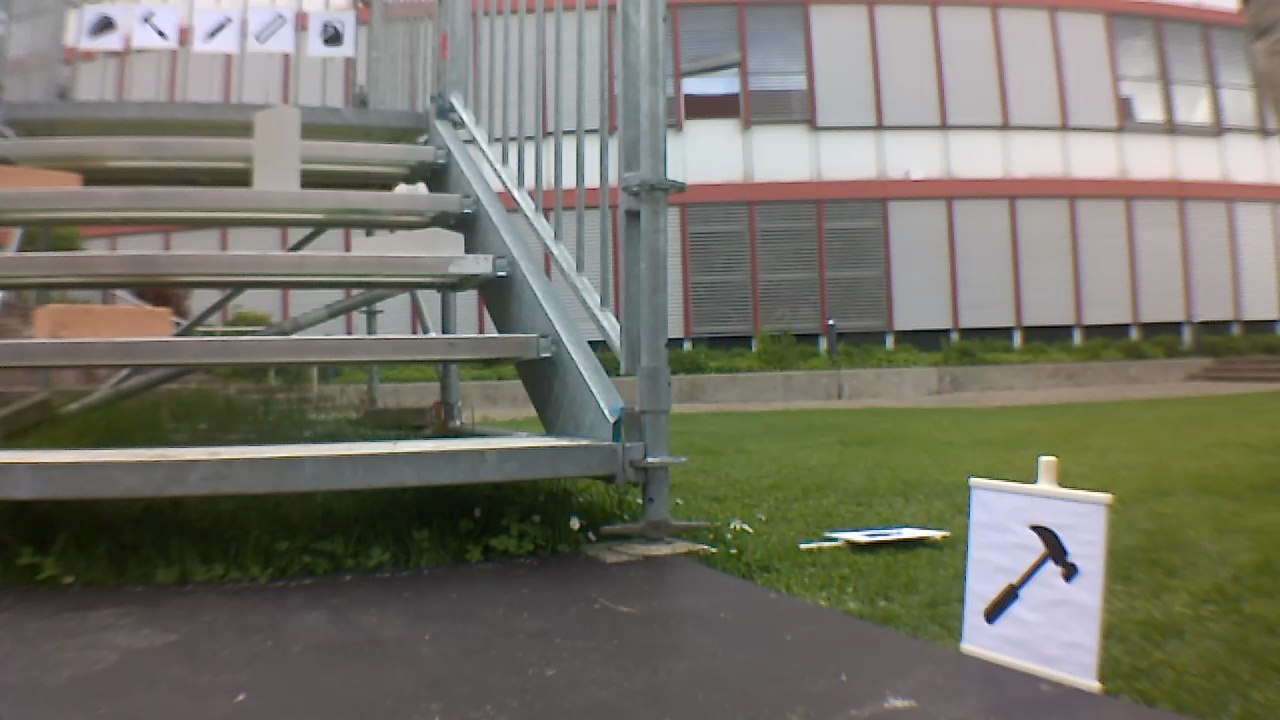brick: (32, 303, 170, 339), (254, 106, 299, 189), (353, 226, 463, 255), (2, 166, 79, 187)
bucket: (313, 15, 347, 50)
edge: (2, 444, 607, 492), (1, 334, 551, 362), (1, 189, 477, 212), (4, 137, 450, 161), (2, 101, 429, 126), (3, 255, 508, 272)
hammer: (975, 514, 1087, 637), (135, 10, 174, 45)
pencil: (197, 10, 236, 48)
ruler: (254, 11, 290, 47)
stairs: (3, 1, 681, 546)
steps: (4, 87, 626, 502)
taco: (83, 10, 119, 41)
